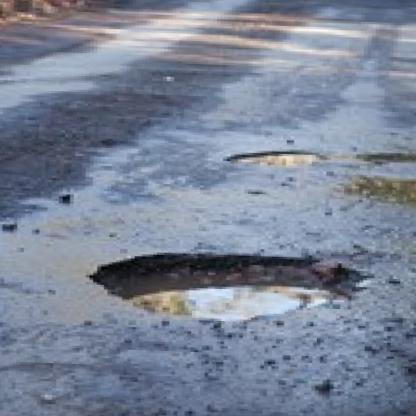pothole: (84, 245, 364, 328), (223, 145, 327, 172)
